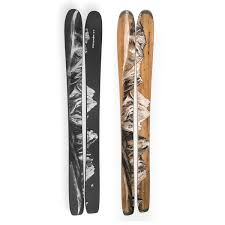skis: (62, 9, 104, 216), (116, 9, 156, 216)
